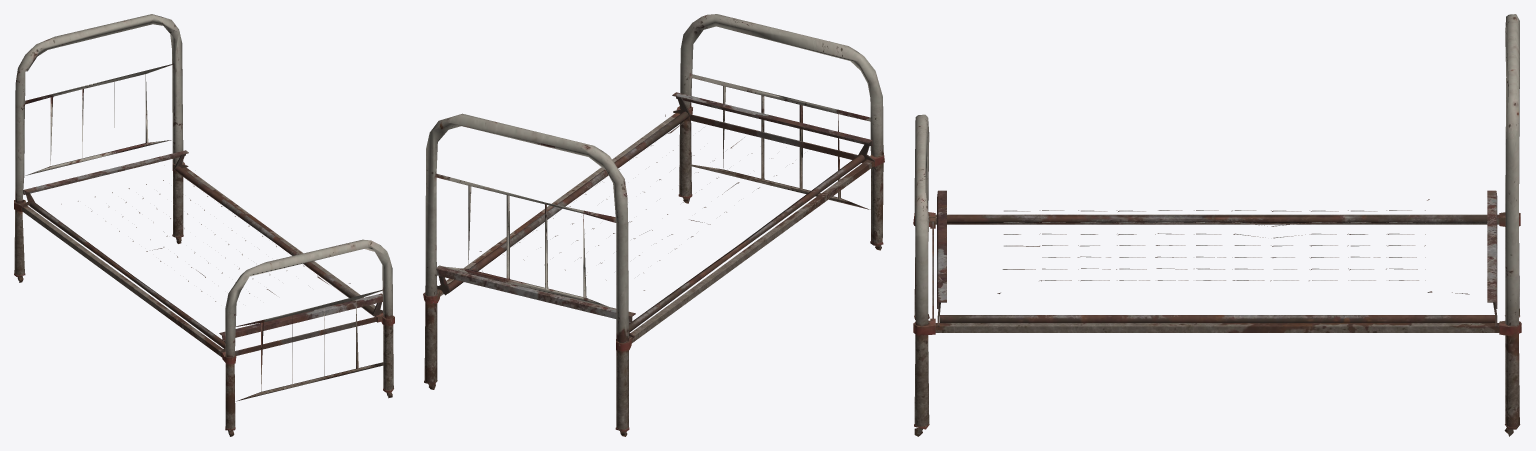
Rendered from old_bed_frame.glb.
3 renders of one model, left to right at view 1: azimuth 30°, elevation 25°; view 2: azimuth 150°, elevation 25°; view 3: azimuth 270°, elevation 25°, orthographic. The views are drawn at different scales.
Visible parts, largest first — view 1: old_bed_frame; view 2: old_bed_frame; view 3: old_bed_frame.
Part boxes in pixels (x1,y1,x2,y2): old_bed_frame: (14, 14, 394, 436); old_bed_frame: (423, 14, 884, 436); old_bed_frame: (913, 14, 1521, 436).
Bounding box in the file's own units: 0.9047 × 1.2 × 2.
Materials: 1 (1 with a texture image).
